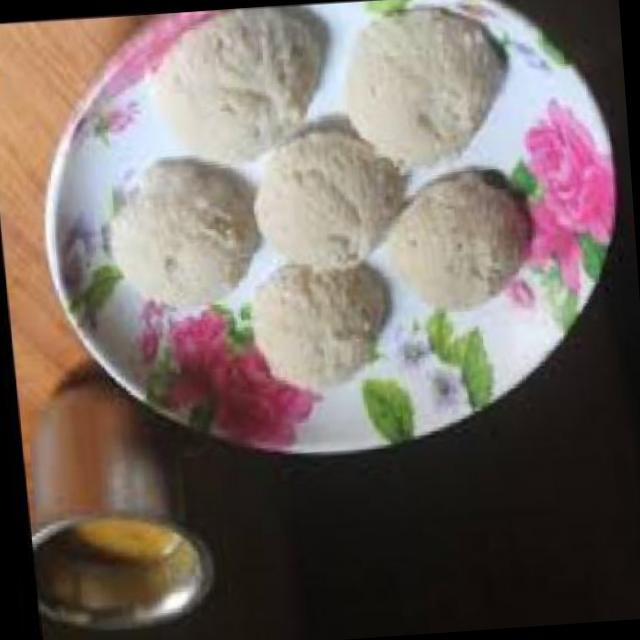idli: (137, 1, 330, 166), (337, 0, 509, 172), (100, 154, 262, 310), (246, 121, 412, 272), (378, 160, 534, 312), (244, 256, 390, 390)
